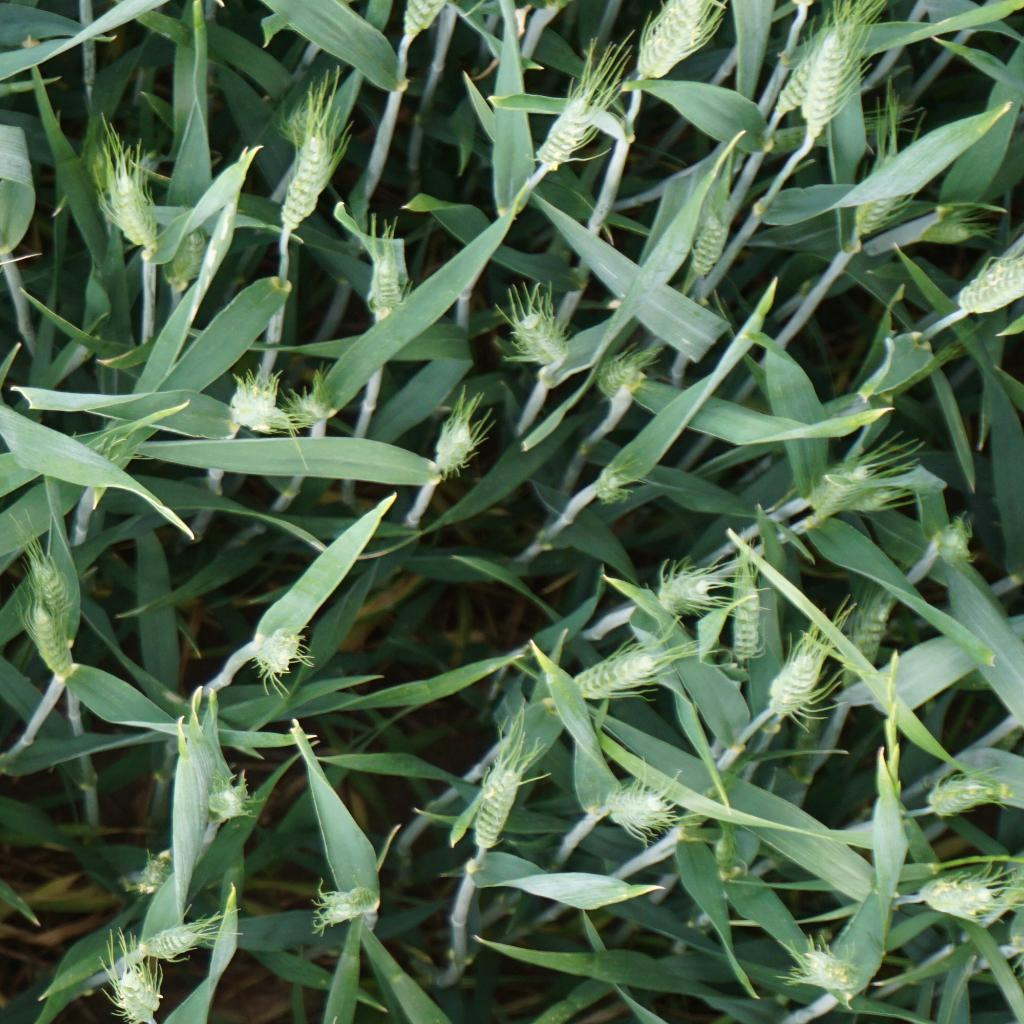0-0: (264, 86, 358, 242), (65, 135, 178, 253), (613, 0, 733, 99), (841, 139, 940, 253), (808, 439, 931, 523), (532, 66, 622, 175), (641, 532, 737, 631), (495, 280, 587, 379), (795, 19, 871, 138), (588, 757, 692, 843), (567, 633, 686, 708), (761, 622, 844, 727), (13, 531, 93, 639), (718, 549, 778, 691), (773, 927, 880, 1005), (768, 11, 836, 128), (114, 912, 244, 970), (472, 738, 525, 870), (950, 237, 1024, 331), (84, 954, 179, 1024), (24, 591, 88, 692), (427, 382, 491, 479), (585, 333, 667, 408), (681, 176, 737, 284), (163, 201, 221, 303), (918, 860, 1023, 915), (249, 617, 317, 699), (836, 585, 893, 678), (919, 767, 1014, 822), (225, 375, 295, 439), (364, 235, 411, 322), (306, 876, 380, 930), (384, 0, 461, 50), (192, 779, 266, 822), (278, 95, 325, 149), (933, 510, 973, 570), (125, 851, 175, 898), (288, 385, 340, 429), (587, 456, 632, 505)
